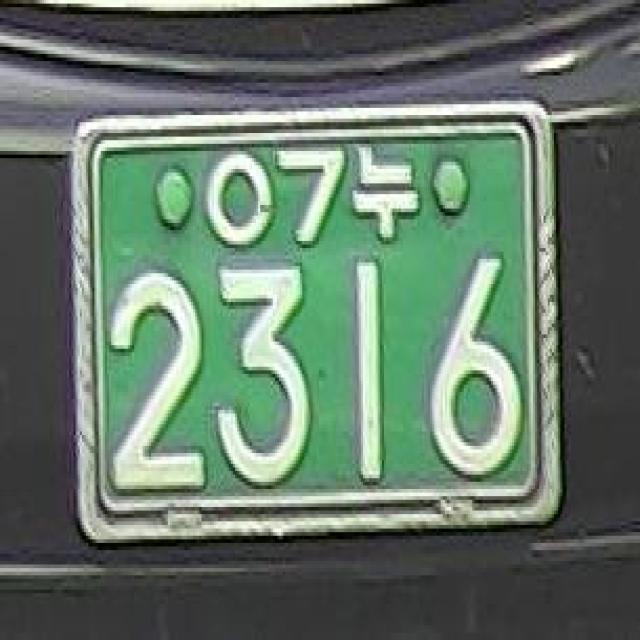illegal_plate: (62, 95, 569, 562)
